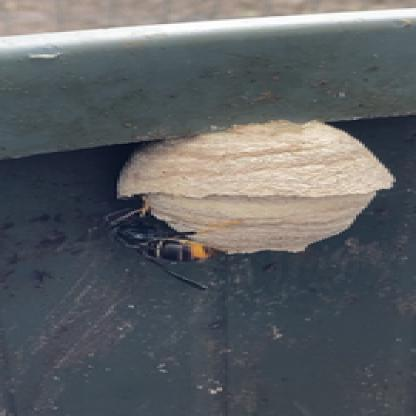Asian Hornet: (100, 196, 244, 281)
